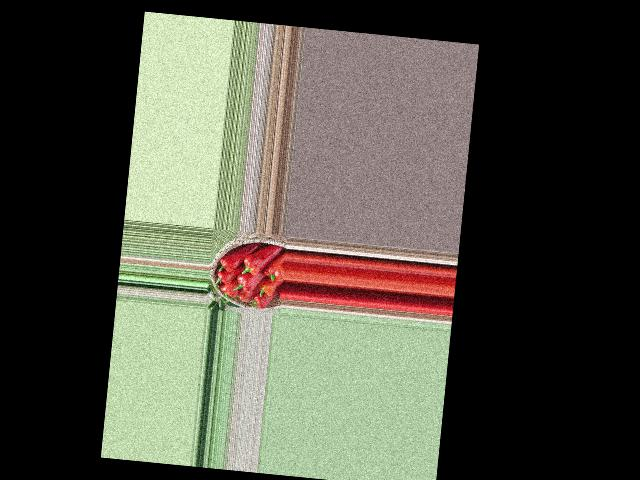bell_pepper: (212, 268, 235, 287)
